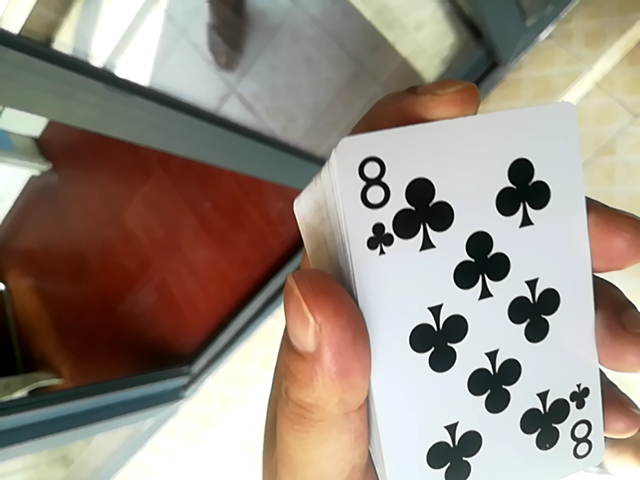mh 8: (311, 108, 621, 478)
